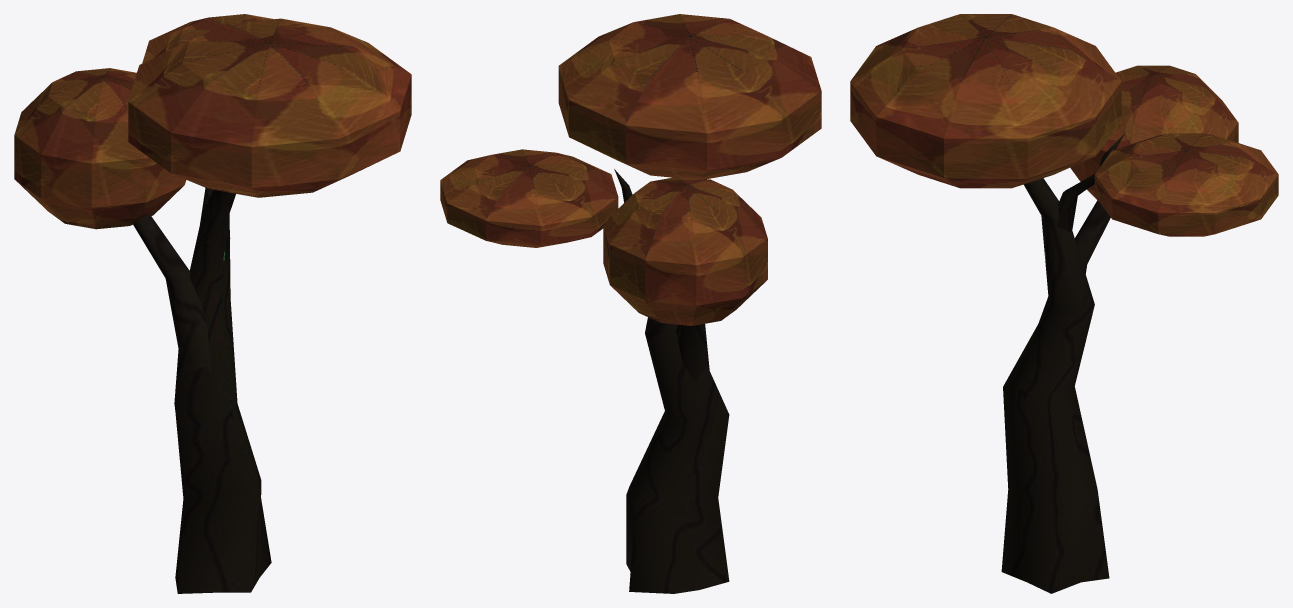
Rendered from RegularTree.FBX.
3 views of the same model, side by side, from view 1: azimuth 30°, elevation 25°; view 2: azimuth 150°, elevation 25°; view 3: azimuth 270°, elevation 25° (orthographic). The views are drawn at different scales.
Visible parts, largest first — view 1: Object002; view 2: Object002; view 3: Object002.
Part boxes in pixels (<box>): Object002: <box>14,14,411,593</box>; Object002: <box>440,14,821,593</box>; Object002: <box>850,14,1278,593</box>.
Bounding box in the file's own units: 314 × 539 × 387.
